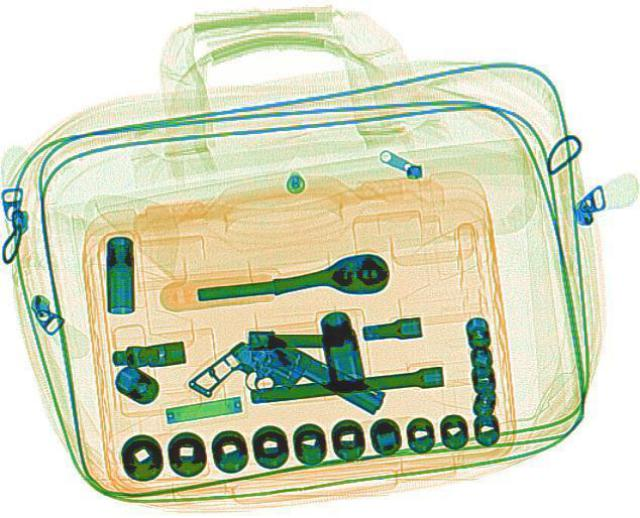Gun: (183, 317, 389, 460)
